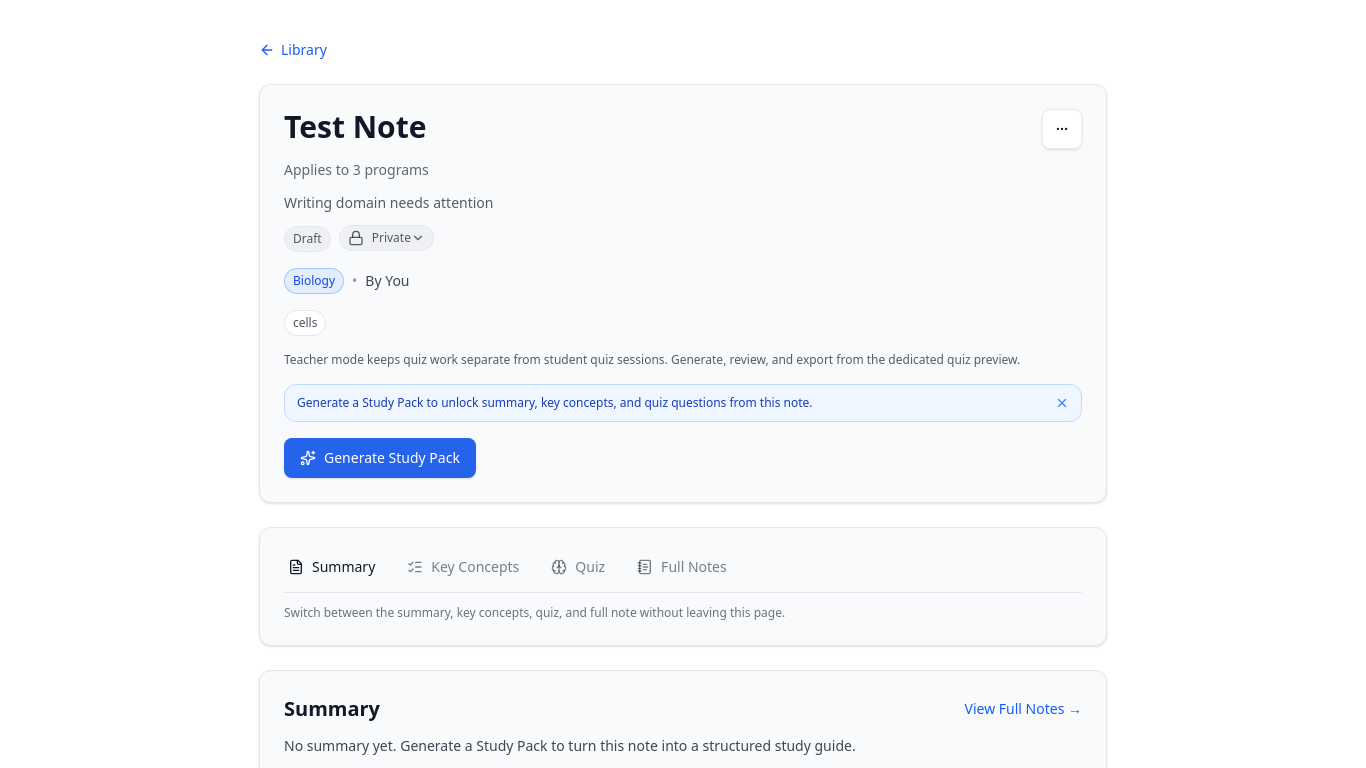
Test: PrivateNoteDetailPageClient › opens the program viewer above one applicable program
This screenshot has width=1366, height=768.
Expected: the text "Pharmacy" is not shown
Expected: the text "Medicine" is not shown
Click the button "Applies to 3 programs" at x=356, y=170, box [284, 160, 429, 180]
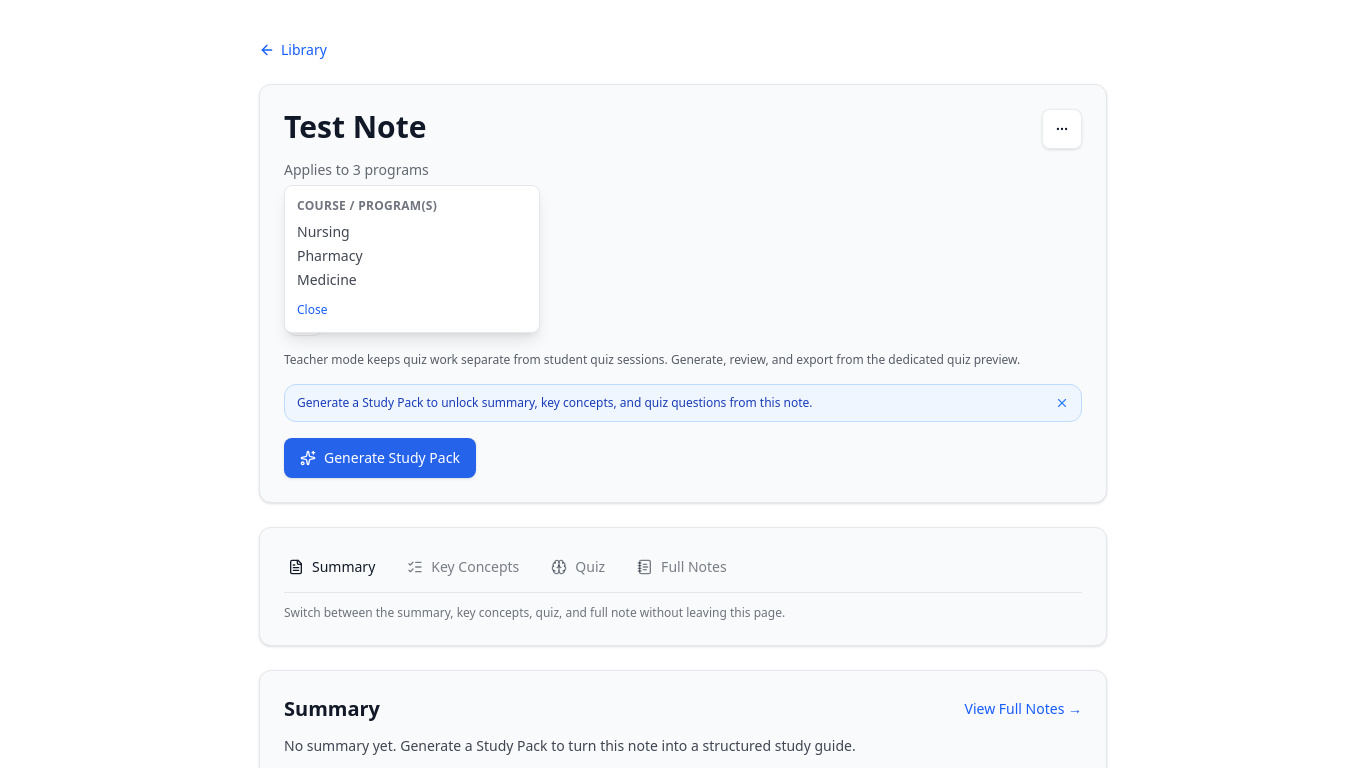
Result: the list item "Pharmacy" is shown at [297, 246, 363, 265]
Result: the list item "Medicine" is shown at [297, 270, 357, 289]
